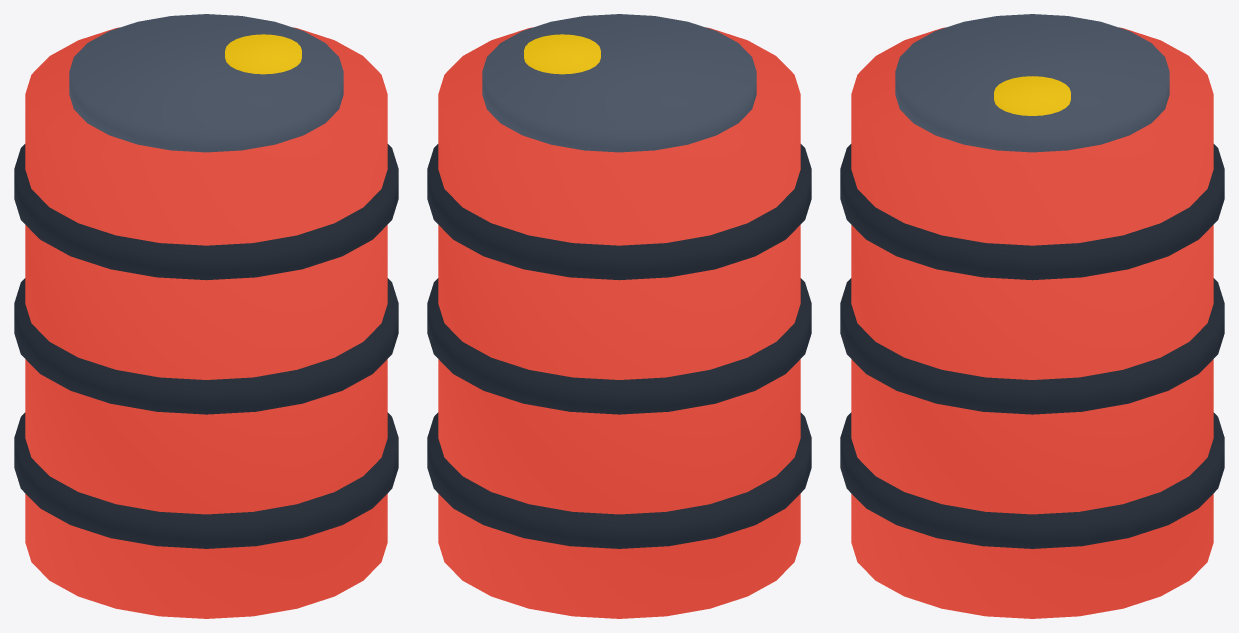
File: barril.glb
3 views of the same model, side by side, from view 1: azimuth 30°, elevation 25°; view 2: azimuth 150°, elevation 25°; view 3: azimuth 270°, elevation 25° (orthographic).
Visible parts, largest first — view 1: Cylinder.025, Cylinder.029, Cylinder.027, Cylinder.026, Cylinder.028, Cylinder.030; view 2: Cylinder.025, Cylinder.029, Cylinder.027, Cylinder.026, Cylinder.028, Cylinder.030; view 3: Cylinder.025, Cylinder.029, Cylinder.027, Cylinder.026, Cylinder.028, Cylinder.030.
Boxes of the visible parts, x1,y1,x2,y2 form: Cylinder.025: (25, 27, 387, 618); Cylinder.029: (69, 14, 343, 152); Cylinder.027: (14, 278, 398, 414); Cylinder.026: (14, 412, 398, 548); Cylinder.028: (14, 144, 398, 280); Cylinder.030: (225, 34, 301, 74); Cylinder.025: (438, 27, 800, 618); Cylinder.029: (482, 14, 756, 152); Cylinder.027: (427, 278, 811, 414); Cylinder.026: (427, 412, 811, 548); Cylinder.028: (427, 144, 811, 280); Cylinder.030: (524, 34, 600, 74); Cylinder.025: (851, 27, 1213, 618); Cylinder.029: (895, 14, 1169, 152); Cylinder.027: (840, 278, 1224, 414); Cylinder.026: (840, 412, 1224, 548); Cylinder.028: (840, 144, 1224, 280); Cylinder.030: (994, 76, 1070, 115).
Size of the model in its own units: 0.7 by 0.96 by 0.7.
